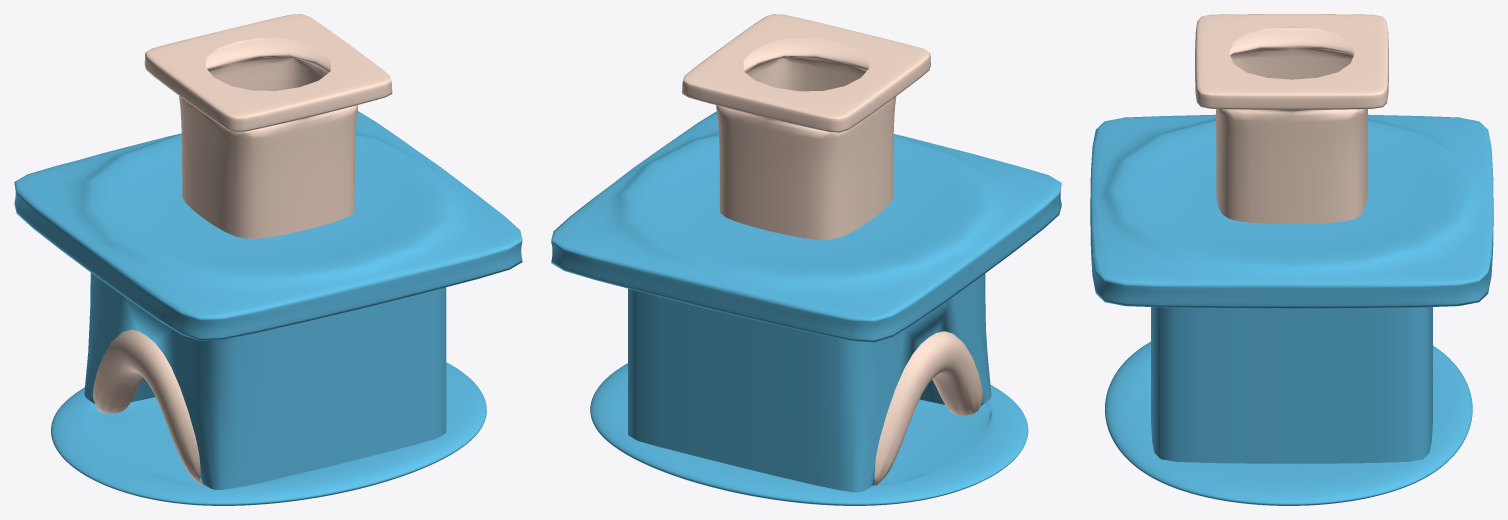
The model's file is furnace.glb.
3 renders of one model, left to right at view 1: azimuth 30°, elevation 25°; view 2: azimuth 150°, elevation 25°; view 3: azimuth 270°, elevation 25°, orthographic.
Parts seen in each view (by area): view 1: Cube.001, Cube, Cube.002, Cube.003, Torus.001; view 2: Cube.001, Cube, Cube.002, Cube.003, Torus.001; view 3: Cube.001, Cube, Cube.002, Cube.003.
Boxes of the visible parts, <box> form: Cube.001: <box>14,111,522,340</box>; Cube: <box>84,272,446,489</box>; Cube.002: <box>144,14,392,238</box>; Cube.003: <box>51,362,486,505</box>; Torus.001: <box>93,329,205,485</box>; Cube.001: <box>551,111,1061,342</box>; Cube: <box>628,274,991,492</box>; Cube.002: <box>682,14,930,239</box>; Cube.003: <box>590,363,1028,505</box>; Torus.001: <box>873,331,982,485</box>; Cube.001: <box>1090,114,1493,308</box>; Cube: <box>1151,307,1432,463</box>; Cube.002: <box>1195,14,1388,223</box>; Cube.003: <box>1105,342,1472,505</box>.
Size of the model in its own units: 4.37 by 3.95 by 3.91.
